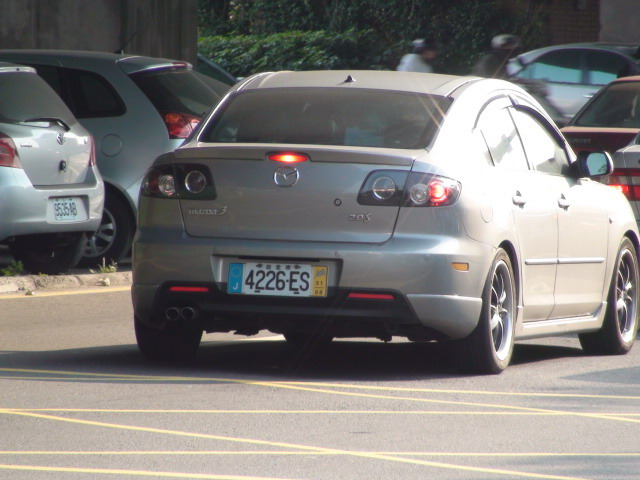plate: (242, 257, 314, 298)
